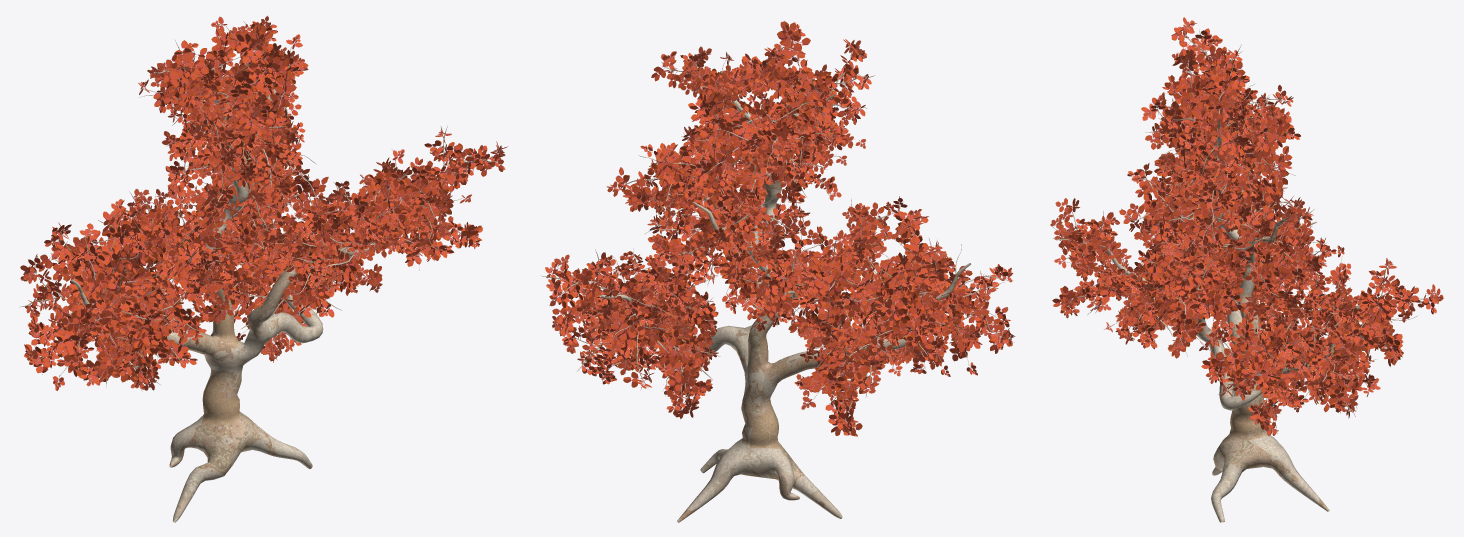
Rendered from Tree_1_2_Red.fbx.
The picture shows the model from 3 angles, left to right: view 1: azimuth 30°, elevation 25°; view 2: azimuth 150°, elevation 25°; view 3: azimuth 270°, elevation 25°; orthographic projection. The views are drawn at different scales.
Parts seen in each view (by area): view 1: Tree_1_2_LOD0; view 2: Tree_1_2_LOD0; view 3: Tree_1_2_LOD0.
Boxes of the visible parts, x1,y1,x2,y2 form: Tree_1_2_LOD0: [19, 15, 507, 522]; Tree_1_2_LOD0: [541, 21, 1015, 522]; Tree_1_2_LOD0: [1050, 17, 1443, 522].
Size of what is drawn, in the model's own units: 1422 by 1541 by 1214.
